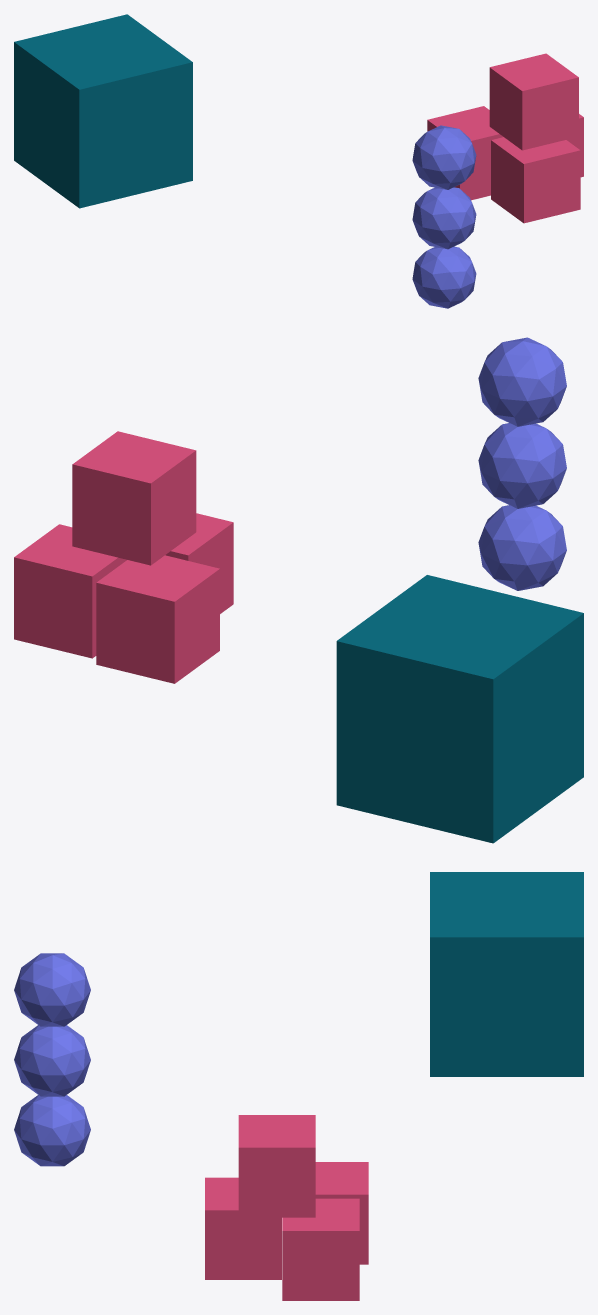
File: simple_scene.glb
The picture shows the model from 3 angles, top to bottom: view 1: azimuth 30°, elevation 25°; view 2: azimuth 150°, elevation 25°; view 3: azimuth 270°, elevation 25°; orthographic projection. The views are drawn at different scales.
Visible parts, largest first — view 1: Cube.004, Cube.002, Cube.001, Icosphere.002, Icosphere, Icosphere.001, Cube.003; view 2: Cube.004, Cube.002, Cube.003, Cube, Icosphere.002, Icosphere, Icosphere.001, Cube.001; view 3: Cube.004, Cube.002, Cube, Cube.001, Icosphere.002, Icosphere.001, Icosphere, Cube.003.
Boxes of the visible parts, bbox=[...] form: Cube.004: bbox=[14, 14, 192, 208]; Cube.002: bbox=[489, 53, 578, 150]; Cube.001: bbox=[491, 137, 580, 223]; Icosphere.002: bbox=[412, 125, 476, 189]; Icosphere: bbox=[412, 246, 476, 308]; Icosphere.001: bbox=[412, 187, 476, 249]; Cube.003: bbox=[427, 106, 503, 200]; Cube.004: bbox=[336, 575, 583, 843]; Cube.002: bbox=[72, 431, 196, 565]; Cube.003: bbox=[96, 555, 219, 683]; Cube: bbox=[14, 524, 126, 658]; Icosphere.002: bbox=[478, 337, 566, 426]; Icosphere: bbox=[478, 505, 566, 590]; Icosphere.001: bbox=[478, 423, 566, 508]; Cube.001: bbox=[165, 513, 233, 613]; Cube.004: bbox=[430, 872, 583, 1076]; Cube.002: bbox=[238, 1115, 315, 1217]; Cube: bbox=[282, 1198, 359, 1300]; Cube.001: bbox=[205, 1177, 281, 1279]; Icosphere.002: bbox=[14, 953, 90, 1026]; Icosphere.001: bbox=[14, 1025, 90, 1096]; Icosphere: bbox=[14, 1095, 90, 1166]; Cube.003: bbox=[315, 1162, 368, 1264].
Size of what is drawn, in the model's own units: 7.79 by 3 by 7.4.
